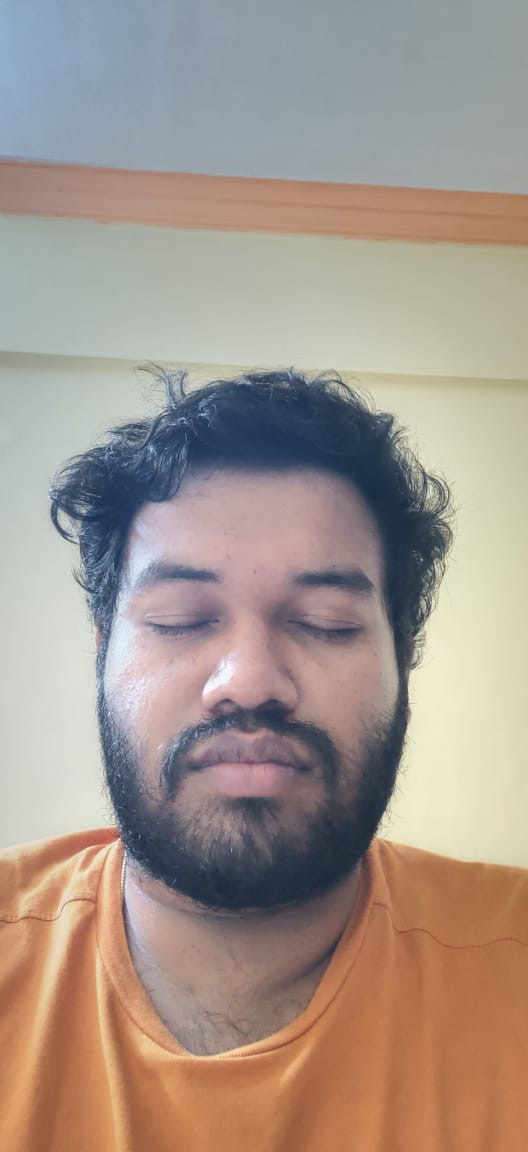Sleeping: (109, 578, 396, 655)
